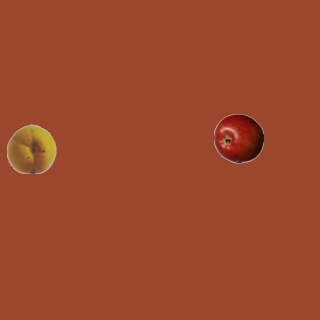Apple Braeburn: (213, 113, 263, 163)
Peach 2: (6, 123, 56, 173)
